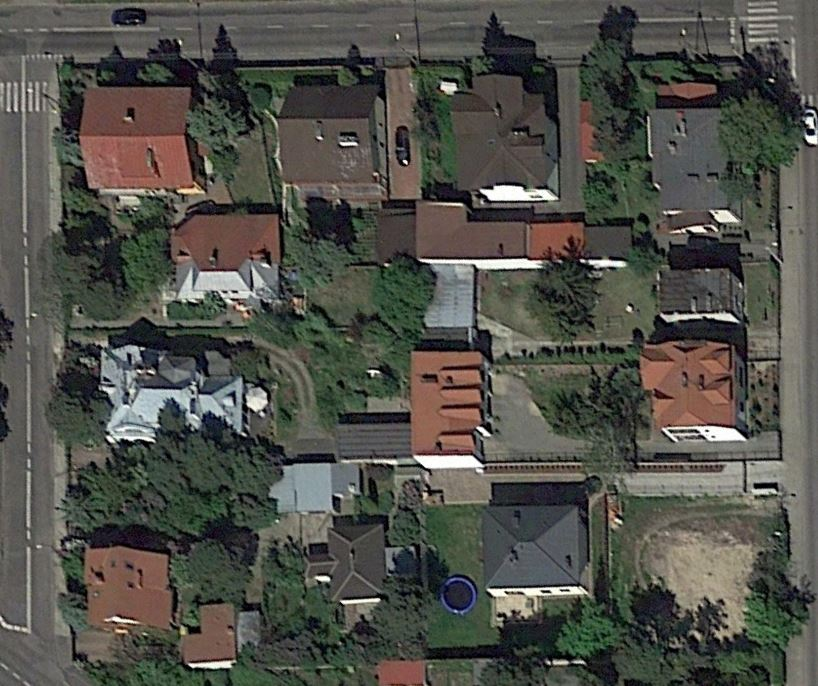family house: (89, 333, 262, 459), (70, 76, 222, 207), (640, 80, 762, 235), (442, 63, 563, 203), (469, 489, 605, 608), (277, 78, 398, 205), (632, 337, 762, 449), (162, 195, 288, 308), (395, 338, 500, 473), (64, 530, 184, 641), (299, 522, 393, 620), (257, 448, 365, 522)
